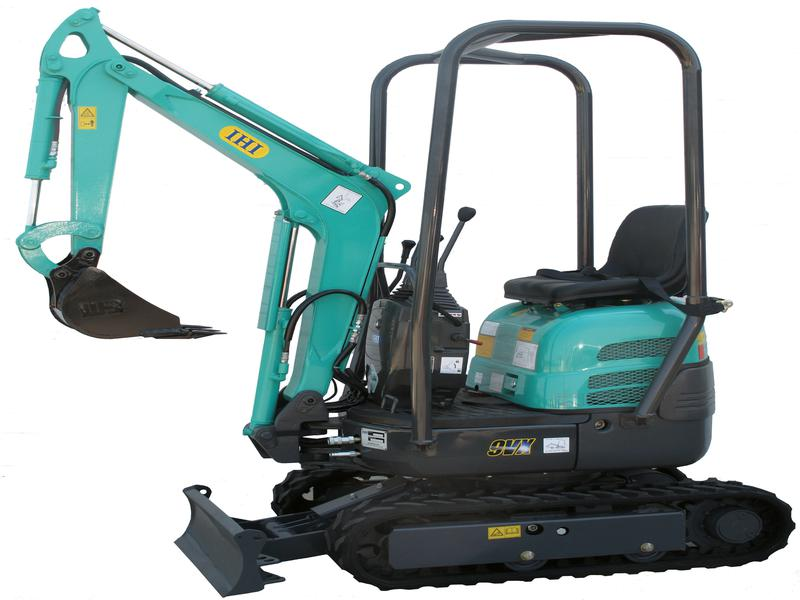shovel: (8, 5, 797, 599)
